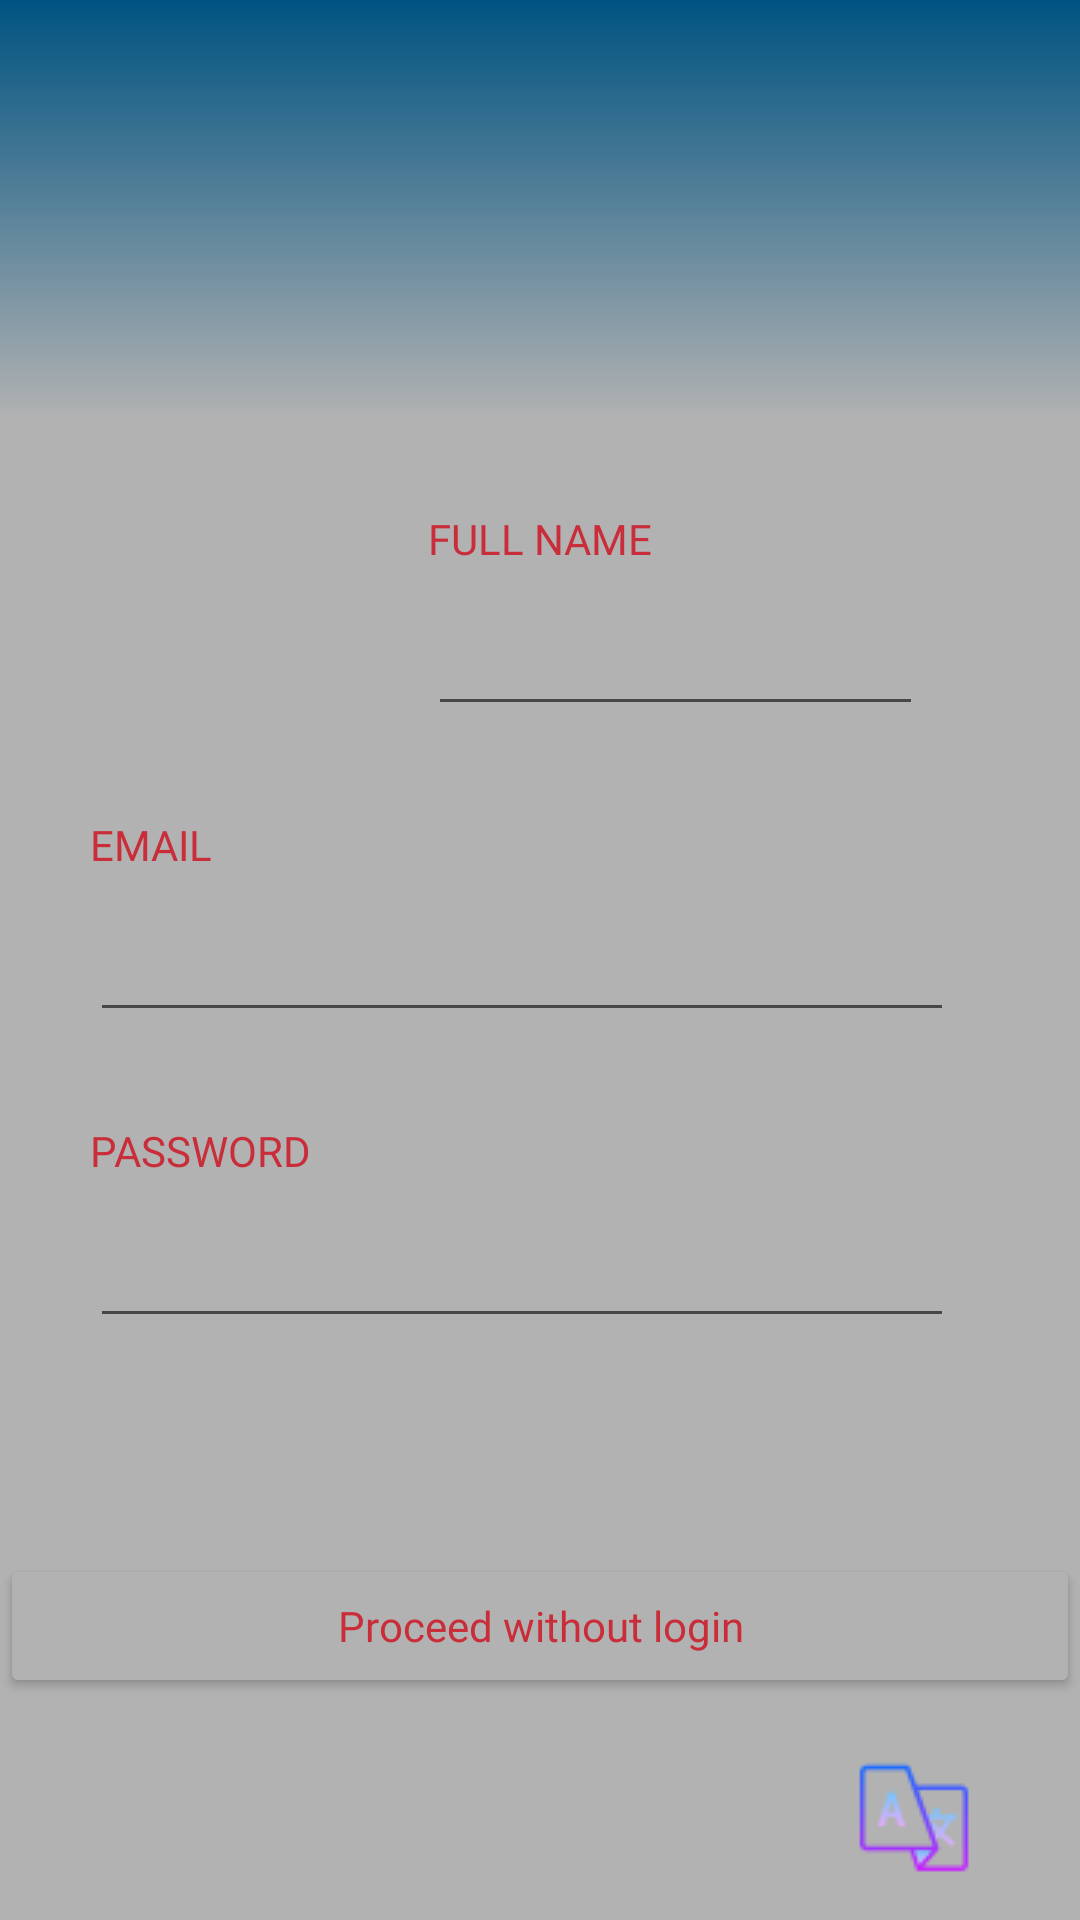

Where icons sit on this 1080 x 1920 app screen, as [x1, y1, x2, y2]:
google translate: [859, 1763, 969, 1872]
